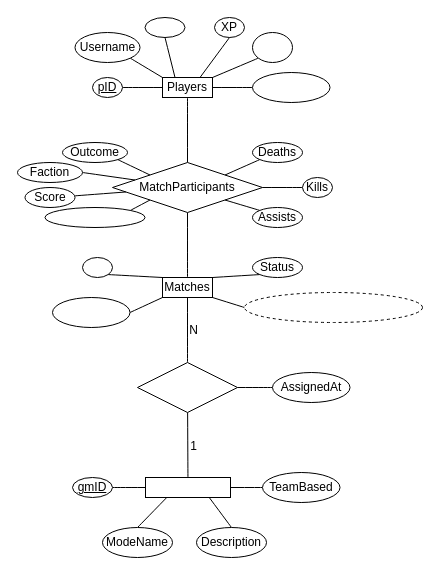
Some shapes in this 440 by 575 pixel diagram are drawn without their labels. Here are the shapes that lost their labels. From the top down, the centre of each, then its label:
At point (164, 27): "email".
At point (272, 47): "Level".
At point (291, 87): "referred_by".
At point (94, 217): "mpTimestamp".
At point (97, 267): "mID".
At point (91, 312): "matchName".
At point (333, 307): "NumberOfPlayersParticipated".
At point (187, 387): "MatchModes".
At point (187, 487): "GameModes".
